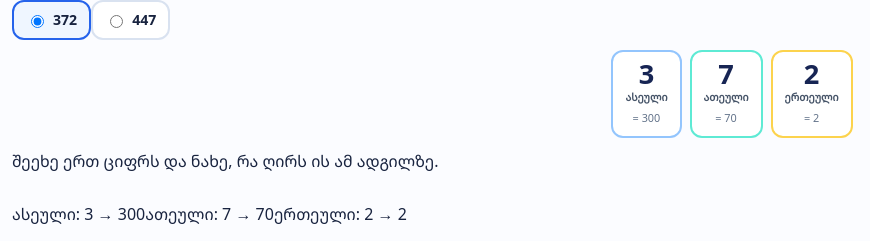
Test: tools: the digit lab lights up a place › names the digit, its place and what it is worth
Click the button "7 ათეული = 70".
click(726, 94)  # box [690,50,763,138]
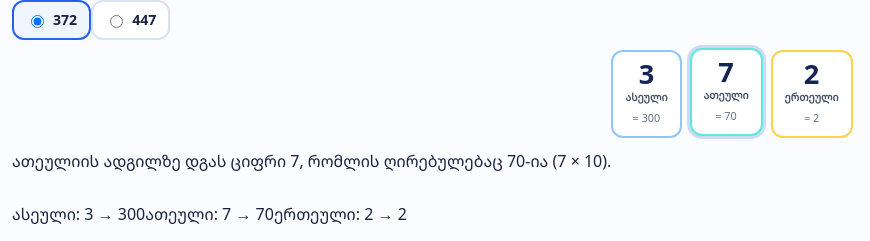
Now the message with class "lab-status" shows "ციფრი 7", box [12,150,611,172]
Now the message with class "lab-status" shows "70", box [12,150,611,172]
